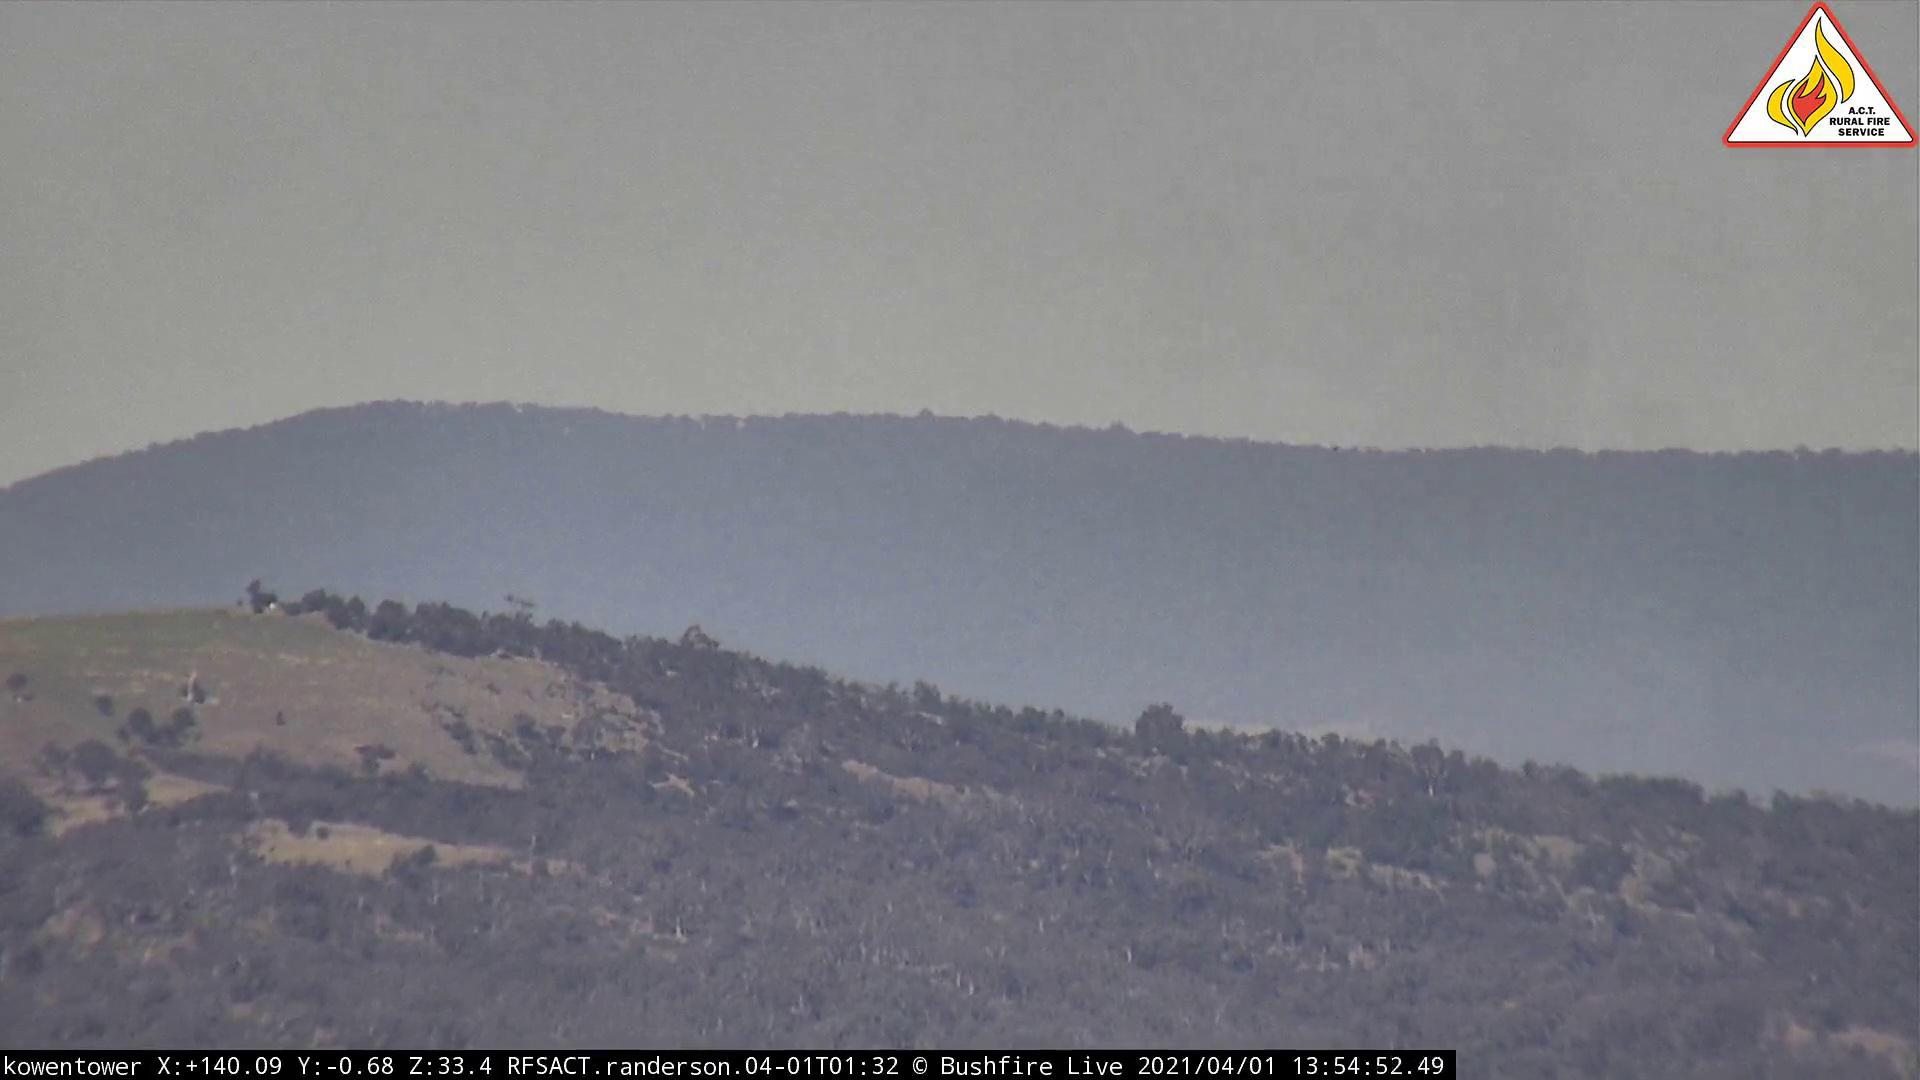Smoke: (1036, 3, 1698, 587)
